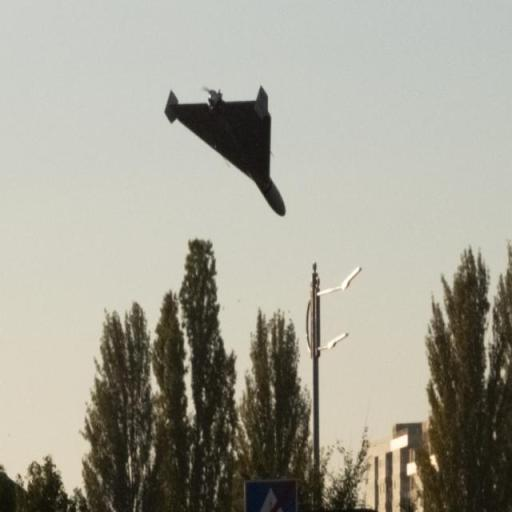uav: (154, 82, 296, 228)
